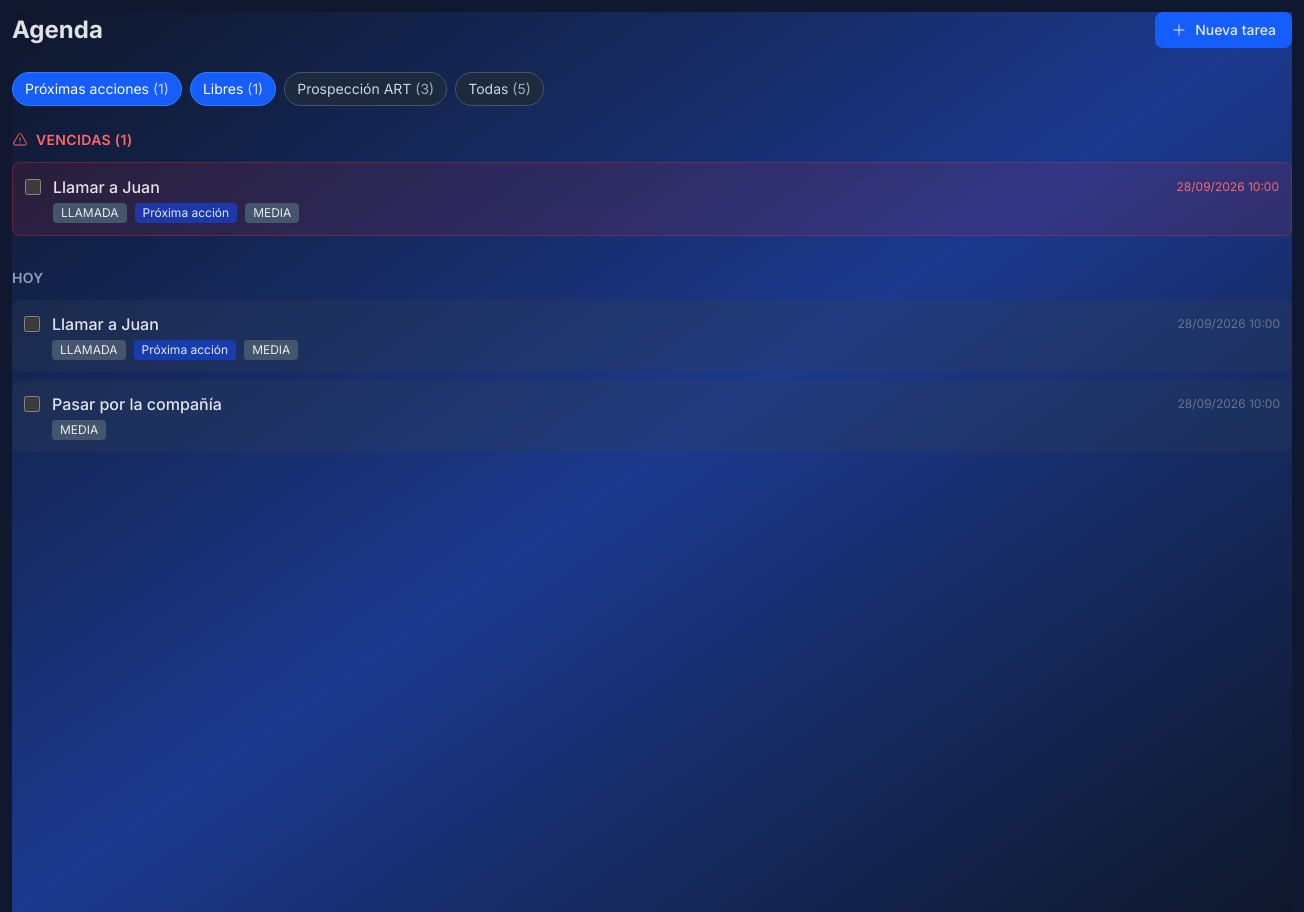
Test case: AgendaPanel › "Todas" prende los tres grupos
Expected: the text "Pasar por la compañía" is shown, [52,392,222,416]
Click the button "Todas (5)" at (500, 89), box [455,72,544,106]
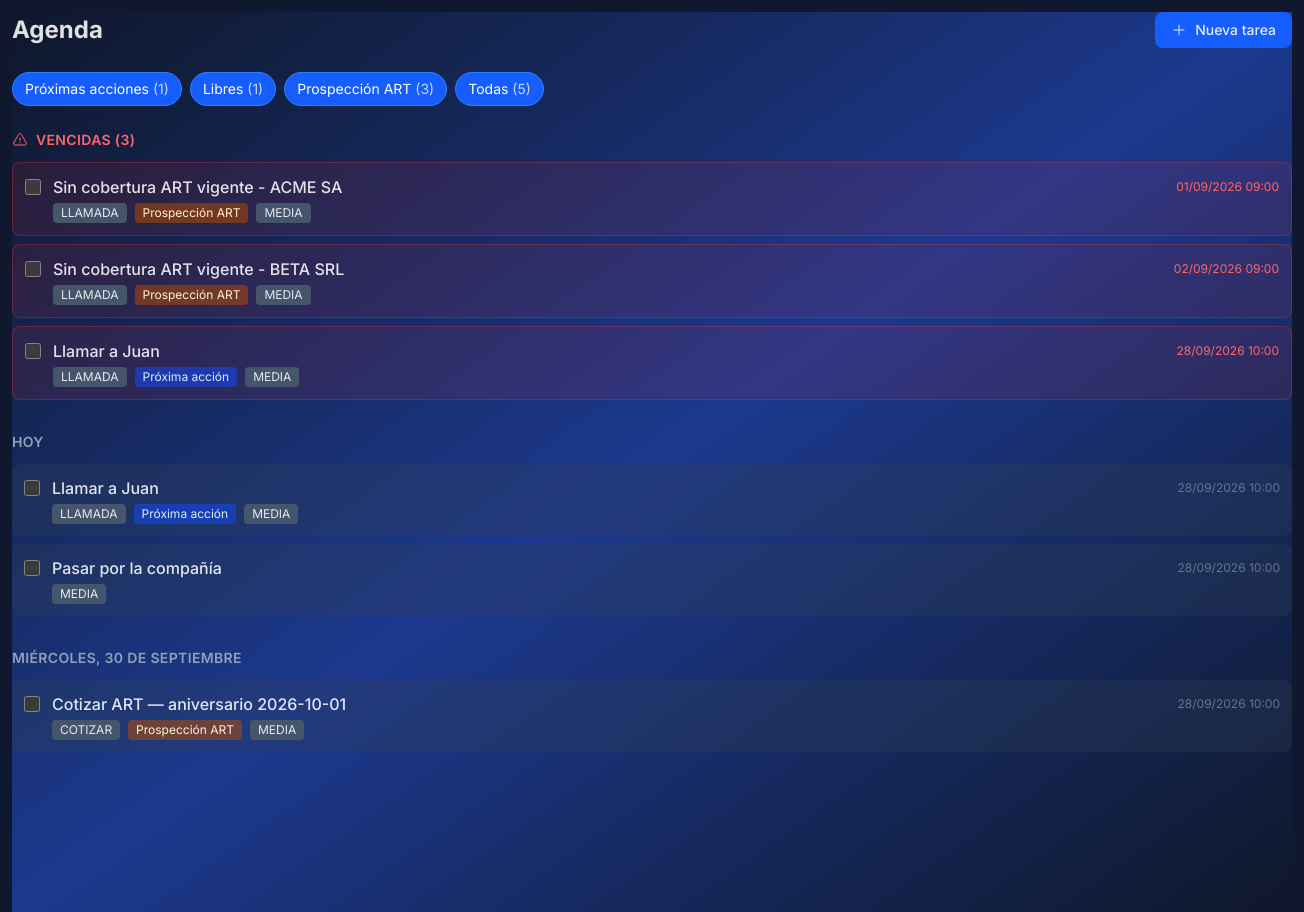
Now the text "Cotizar ART — aniversario 2026-10-01" is shown, box [52,692,346,716]
